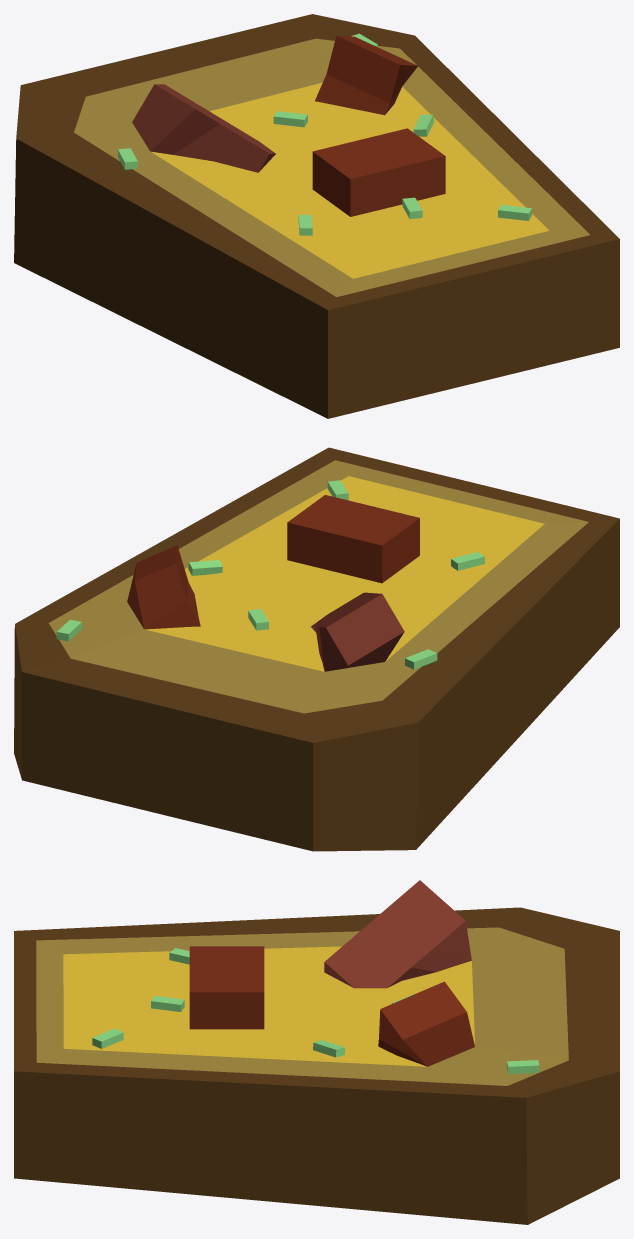
File: garlic_toast.fbx
The picture shows the model from 3 angles, top to bottom: view 1: azimuth 30°, elevation 25°; view 2: azimuth 150°, elevation 25°; view 3: azimuth 270°, elevation 25°; orthographic projection.
Visible parts, largest first — view 1: Cube.009; view 2: Cube.009; view 3: Cube.009.
Boxes of the visible parts, x1,y1,x2,y2 form: Cube.009: [14, 14, 619, 418]; Cube.009: [14, 447, 619, 851]; Cube.009: [14, 880, 619, 1224].
Size of the model in its own units: 3.65 by 1.71 by 4.84.
